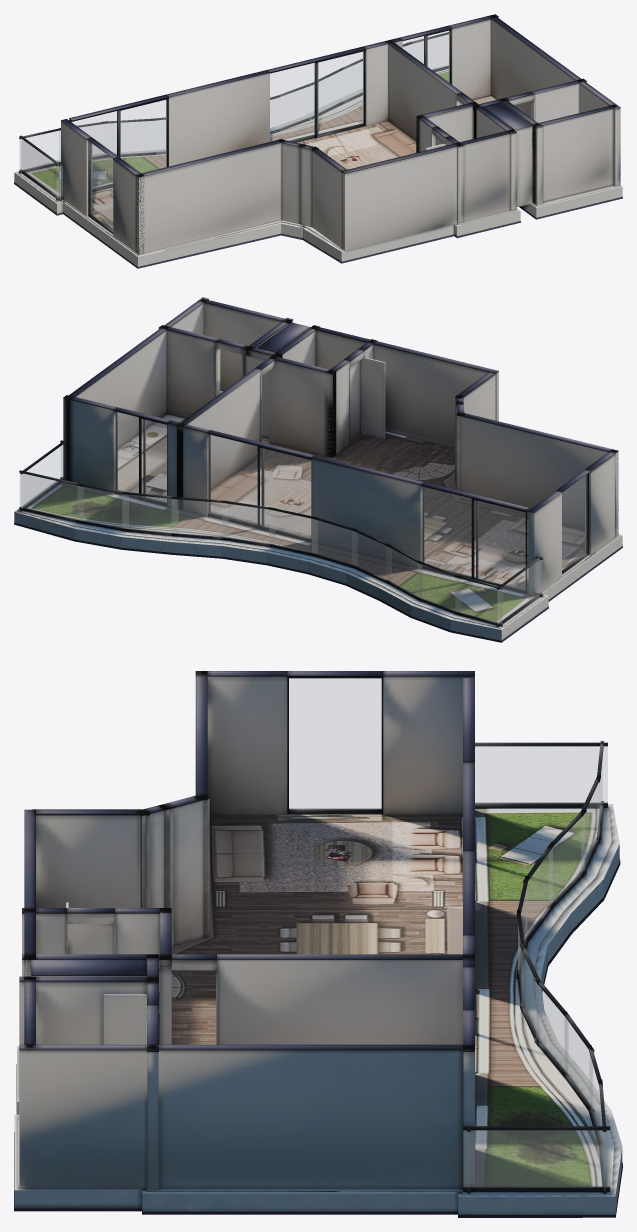
3 renders of one model, top to bottom at view 1: azimuth 30°, elevation 25°; view 2: azimuth 150°, elevation 25°; view 3: azimuth 270°, elevation 25°, orthographic. The views are drawn at different scales.
Visible parts, largest first — view 1: plan, glass1_m, glass0_m, glass3_m, glass2_m, railg12_m, railg0_m, railg2_m, railg6_m, railg10_m, railg7_m, railg8_m; view 2: plan, glass0_m, glass1_m, glass2_m, railg10_m, glass3_m, railg8_m, railg7_m, railg6_m, railg9_m, railg5_m, railg0_m (+6 smaller); view 3: plan, glass3_m, railg11_m, railg12_m, railg2_m, railg7_m, railg8_m, railg3_m, railg6_m, railg1_m.
Part boxes in pixels (x1,y1,x2,y2): plan: (14, 14, 622, 268); glass1_m: (270, 51, 363, 141); glass0_m: (72, 100, 166, 189); glass3_m: (90, 142, 112, 230); glass2_m: (403, 31, 449, 82); railg12_m: (21, 139, 60, 198); railg0_m: (19, 130, 60, 170); railg2_m: (108, 121, 148, 154); railg6_m: (274, 87, 307, 129); railg10_m: (412, 35, 448, 69); railg7_m: (309, 72, 338, 117); railg8_m: (343, 61, 362, 100); plan: (14, 297, 622, 642); glass0_m: (422, 487, 525, 589); glass1_m: (208, 435, 310, 537); glass2_m: (115, 412, 166, 502); railg10_m: (20, 474, 83, 520); glass3_m: (562, 475, 586, 570); railg8_m: (122, 494, 178, 533); railg7_m: (172, 499, 227, 537); railg6_m: (222, 503, 274, 544); railg9_m: (77, 486, 128, 528); railg5_m: (269, 510, 317, 553); railg0_m: (455, 577, 502, 623); plan: (14, 671, 622, 1217); glass3_m: (289, 678, 381, 809); railg11_m: (463, 1130, 609, 1187); railg12_m: (475, 746, 607, 803); railg2_m: (549, 814, 584, 906); railg7_m: (536, 983, 568, 1074); railg8_m: (564, 1017, 592, 1109); railg3_m: (525, 848, 552, 939); railg6_m: (521, 951, 539, 1041); railg1_m: (581, 783, 599, 873).
Size of the model in its own units: 13.72 by 2.62 by 8.98.
Materials: 2 (1 with a texture image).
